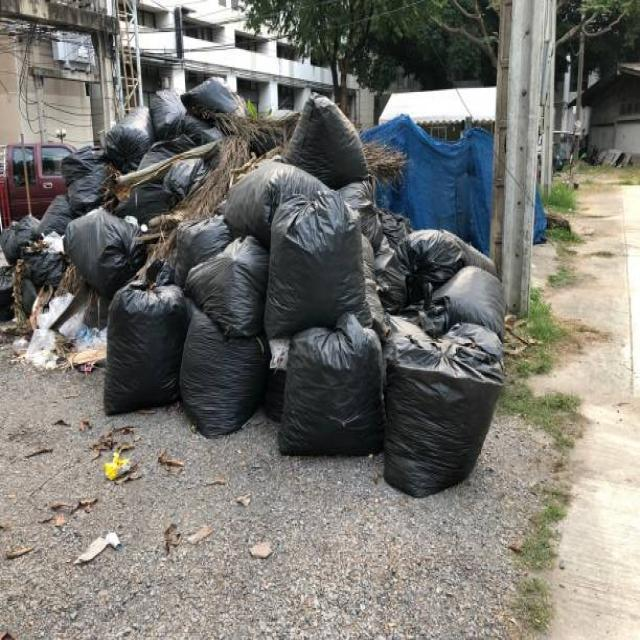Trashbag: (385, 348, 501, 486), (282, 328, 391, 460), (268, 202, 368, 344), (99, 282, 191, 422), (379, 234, 506, 328), (184, 319, 272, 435), (198, 238, 273, 329), (298, 98, 372, 187), (65, 213, 151, 289), (228, 166, 324, 227), (160, 209, 225, 276), (62, 154, 118, 223), (184, 76, 250, 120), (106, 106, 154, 166), (165, 155, 208, 199), (125, 187, 177, 220), (0, 214, 36, 260), (164, 121, 209, 154), (147, 88, 179, 129)
